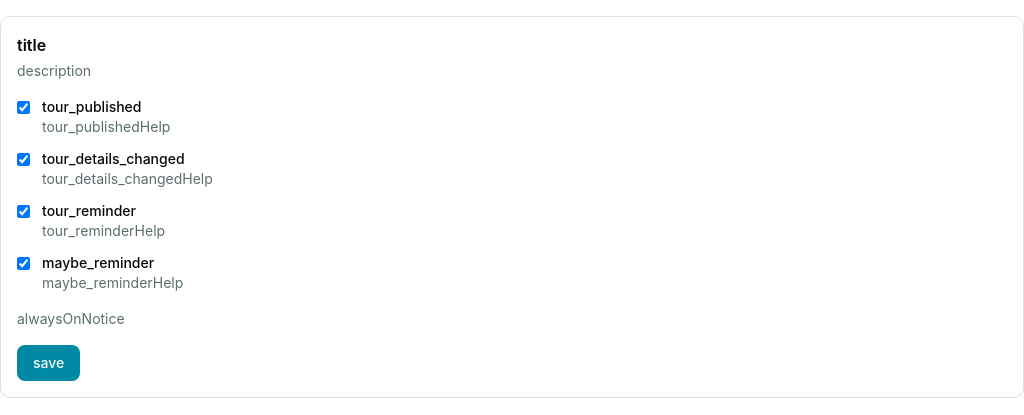
Test case: NotificationPreferences › reports a failed save and keeps the edited state
The width and height of the screenshot is (1024, 415).
Step 1. Click the checkbox labelled "tour_reminder tour_reminderHelp" → click(24, 212), box [17,205,30,218]
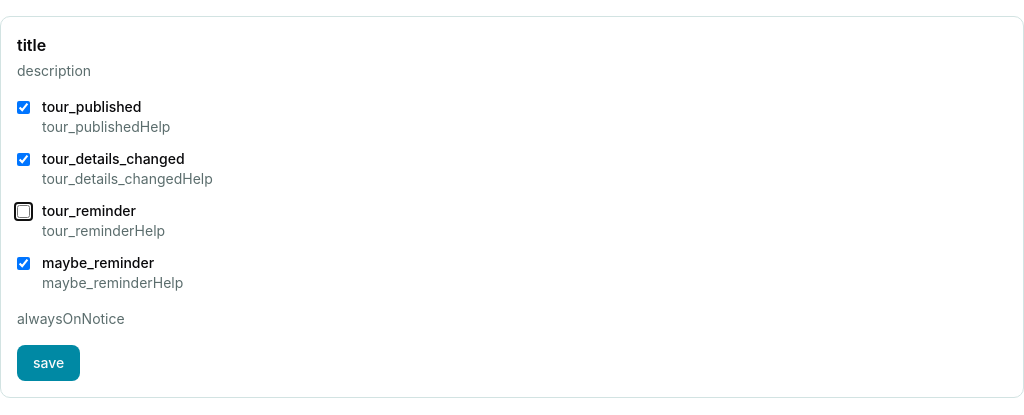
Step 2. Click the button "save" → click(49, 363), box [17,345,80,381]
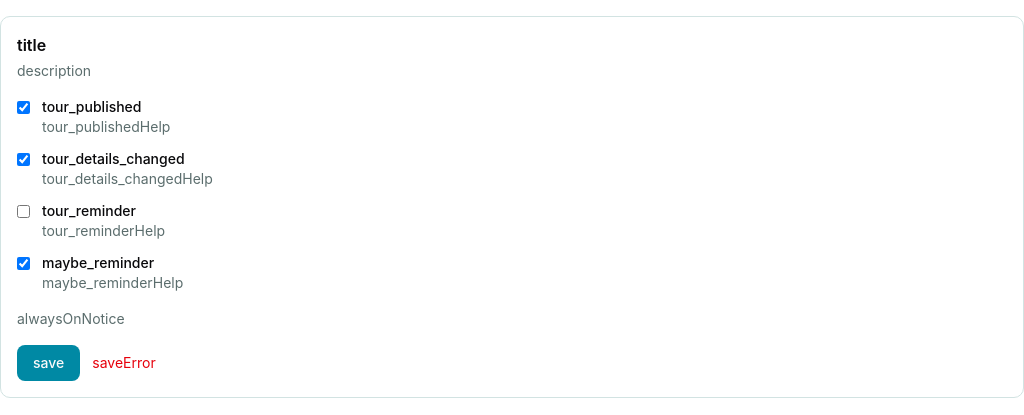
expect the checkbox labelled "tour_reminder tour_reminderHelp" is not checked: met, box [17,205,30,218]
expect the text "saveError" is shown: met, box [92,353,156,373]
